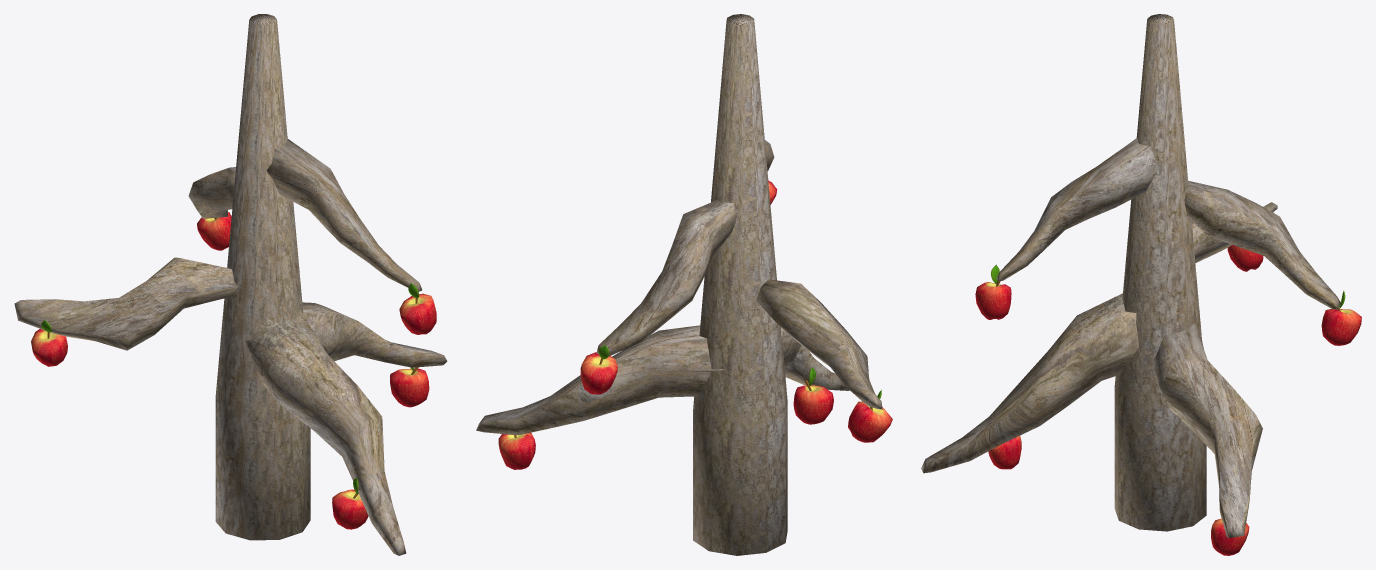
Rendered from treeRedApple.fbx.
3 views of the same model, side by side, from view 1: azimuth 30°, elevation 25°; view 2: azimuth 150°, elevation 25°; view 3: azimuth 270°, elevation 25° (orthographic). The views are drawn at different scales.
Visible parts, largest first — view 1: pasted__pasted__polySurface80; view 2: pasted__pasted__polySurface80; view 3: pasted__pasted__polySurface80.
Boxes of the visible parts, x1,y1,x2,y2 form: pasted__pasted__polySurface80: [14, 14, 447, 555]; pasted__pasted__polySurface80: [476, 14, 892, 555]; pasted__pasted__polySurface80: [921, 14, 1361, 555].
Bounding box in the file's own units: 6.74 × 7.85 × 6.37.
Materials: 2 (2 with a texture image).
